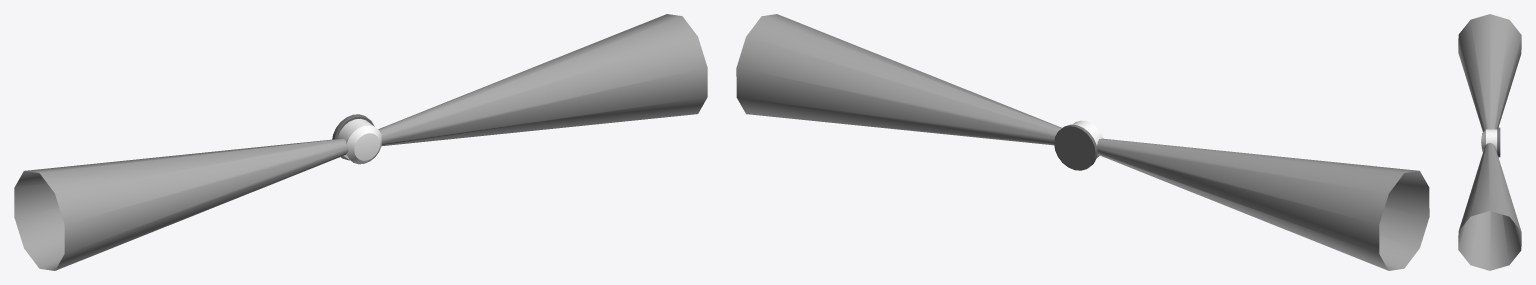
Rendered from WarningLight.fbx.
3 views of the same model, side by side, from view 1: azimuth 30°, elevation 25°; view 2: azimuth 150°, elevation 25°; view 3: azimuth 270°, elevation 25° (orthographic). The views are drawn at different scales.
Parts seen in each view (by area): view 1: lightCone2, lightCone1, LightDome; view 2: lightCone2, lightCone1, Base; view 3: lightCone1, lightCone2, LightDome, Base.
Boxes of the visible parts, <box> form: lightCone2: <box>14,138,348,270</box>; lightCone1: <box>378,14,707,145</box>; LightDome: <box>337,119,381,164</box>; lightCone2: <box>1097,138,1429,270</box>; lightCone1: <box>736,14,1061,145</box>; Base: <box>1054,124,1097,170</box>; lightCone1: <box>1458,143,1521,270</box>; lightCone2: <box>1458,14,1521,131</box>; LightDome: <box>1481,129,1497,152</box>; Base: <box>1497,127,1500,157</box>.
Bounding box in the file's own units: 773 × 110 × 105.
2 materials, 1 textured.
